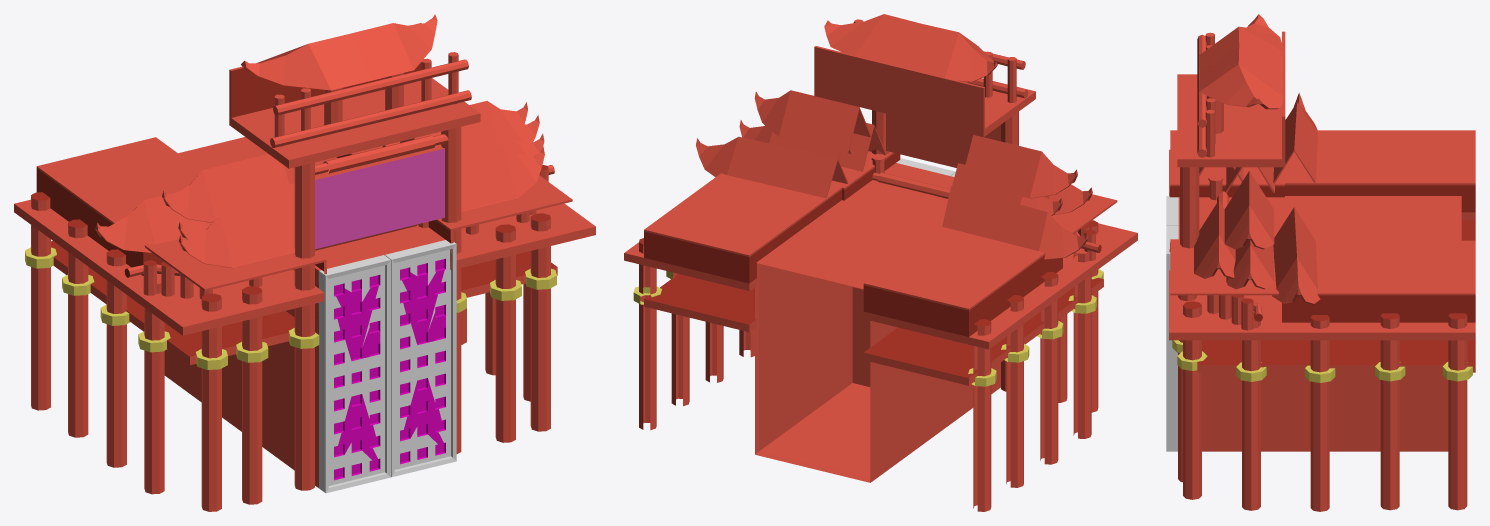
The model's file is Portal.fbx.
The picture shows the model from 3 angles, left to right: view 1: azimuth 30°, elevation 25°; view 2: azimuth 150°, elevation 25°; view 3: azimuth 270°, elevation 25°; orthographic projection. The views are drawn at different scales.
Parts seen in each view (by area): view 1: Circle.005, Cube.001, Cube; view 2: Circle.005, Circle.000; view 3: Circle.005, Cube, Cube.001.
Part boxes in pixels (box(x1,y1,x2,y2)): Circle.005: box(14, 14, 595, 511); Cube.001: box(318, 255, 390, 493); Cube: box(384, 240, 456, 477); Circle.005: box(624, 14, 1137, 511); Circle.000: box(852, 287, 870, 386); Circle.005: box(1169, 14, 1475, 511); Cube: box(1166, 225, 1178, 451); Cube.001: box(1166, 196, 1178, 225).
Bounding box in the file's own units: 282 × 254 × 188.
